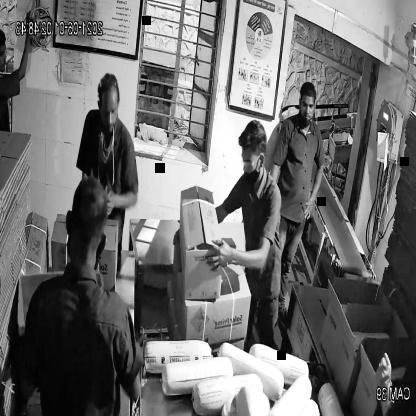goggles: (236, 145, 269, 175)
no_goggles: (94, 98, 125, 126), (295, 92, 321, 112)
